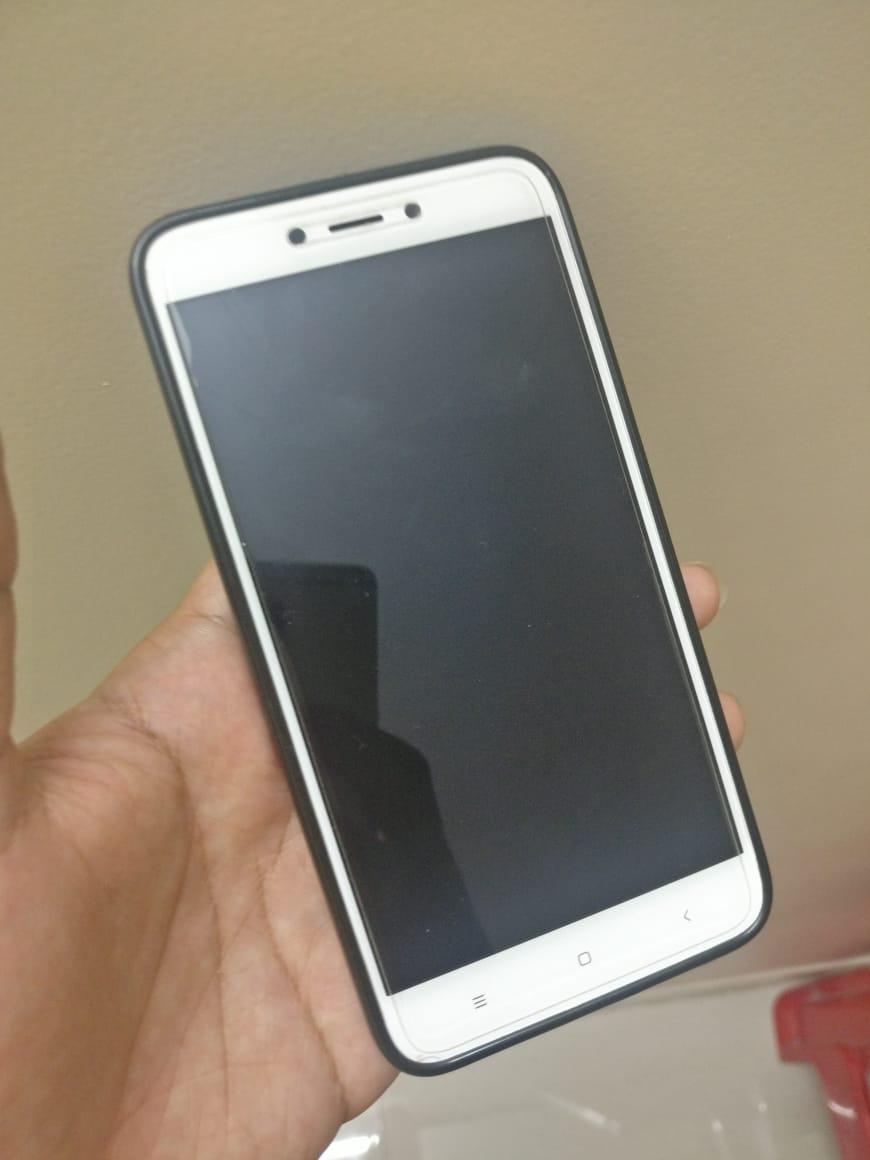Phone: (114, 134, 795, 1085)
